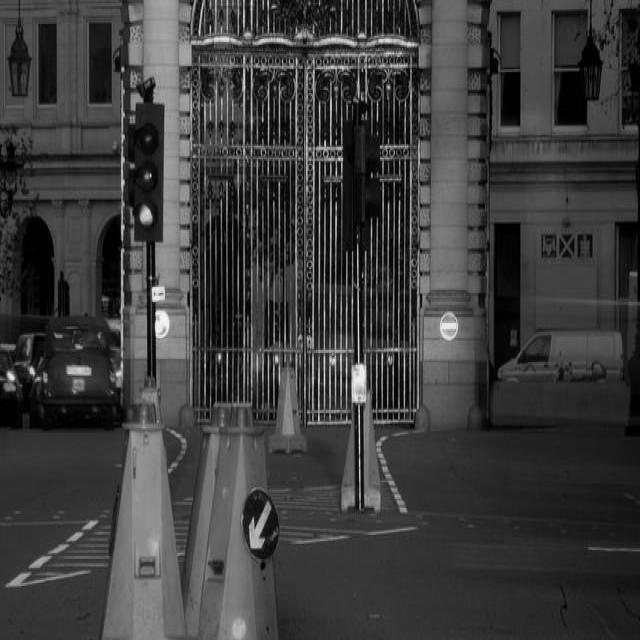vehicle: (31, 317, 121, 425), (497, 328, 623, 386), (12, 332, 50, 414), (0, 346, 26, 430), (112, 319, 121, 348)
